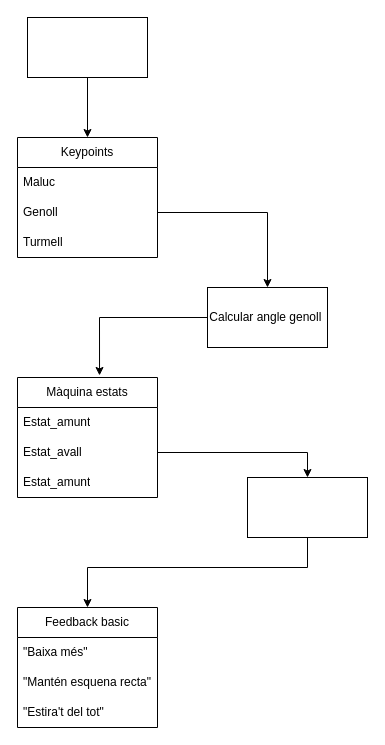
The diagram is 385 pixels wide and 745 high, and some of its shapes have lost their labels. Each missing label, with the centre of its shape:
"1 repetició" goes at point 307,507.
"Dades MoveNet" goes at point 87,47.
